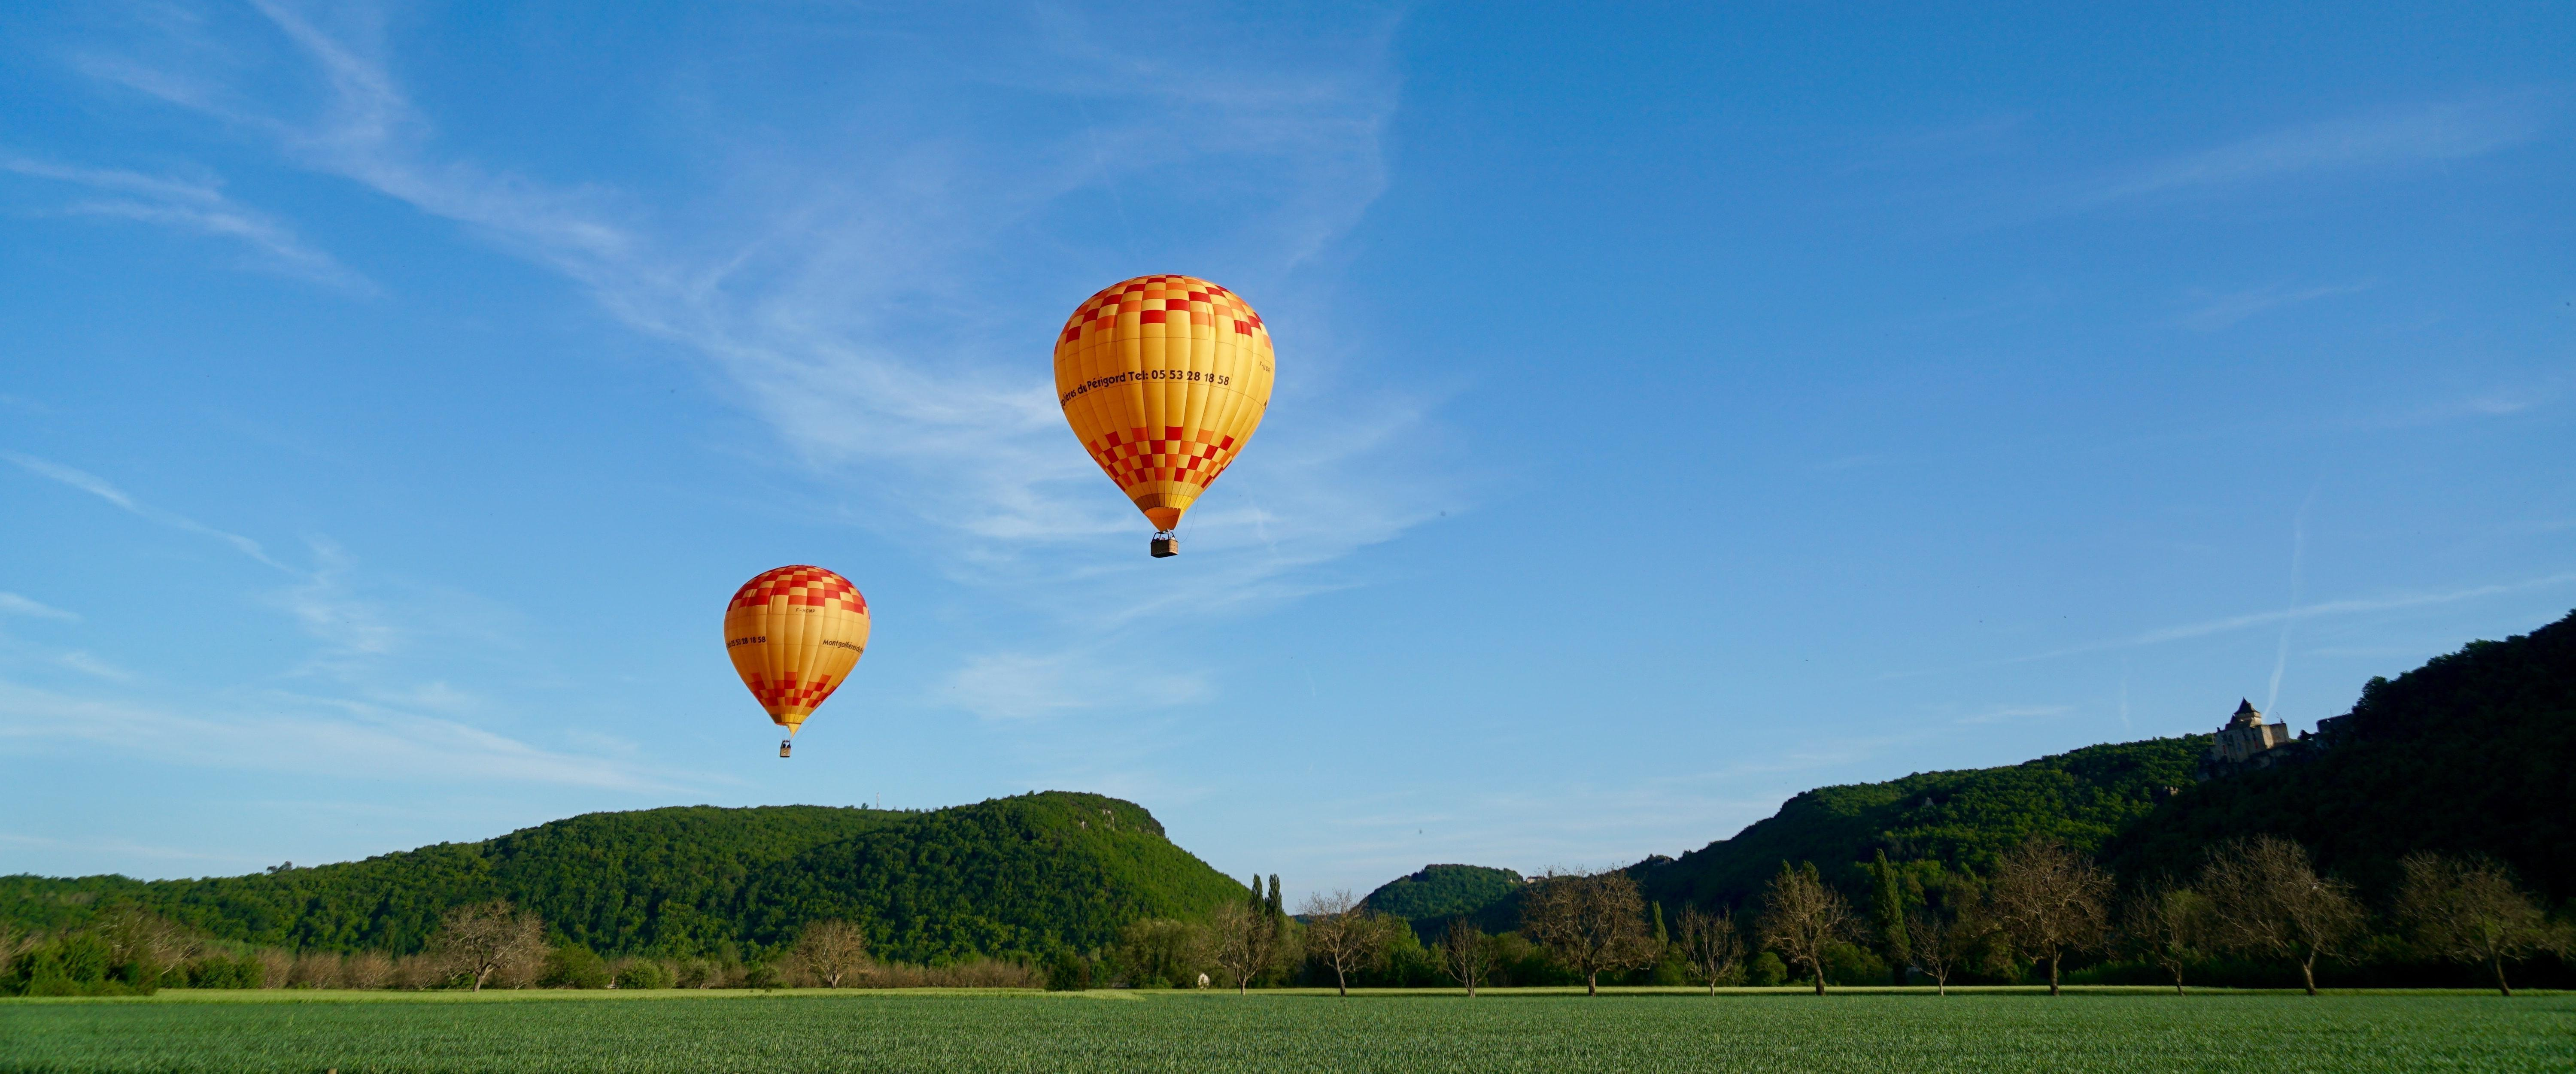hot air ballon: (1055, 274, 1276, 557), (723, 563, 874, 757)
